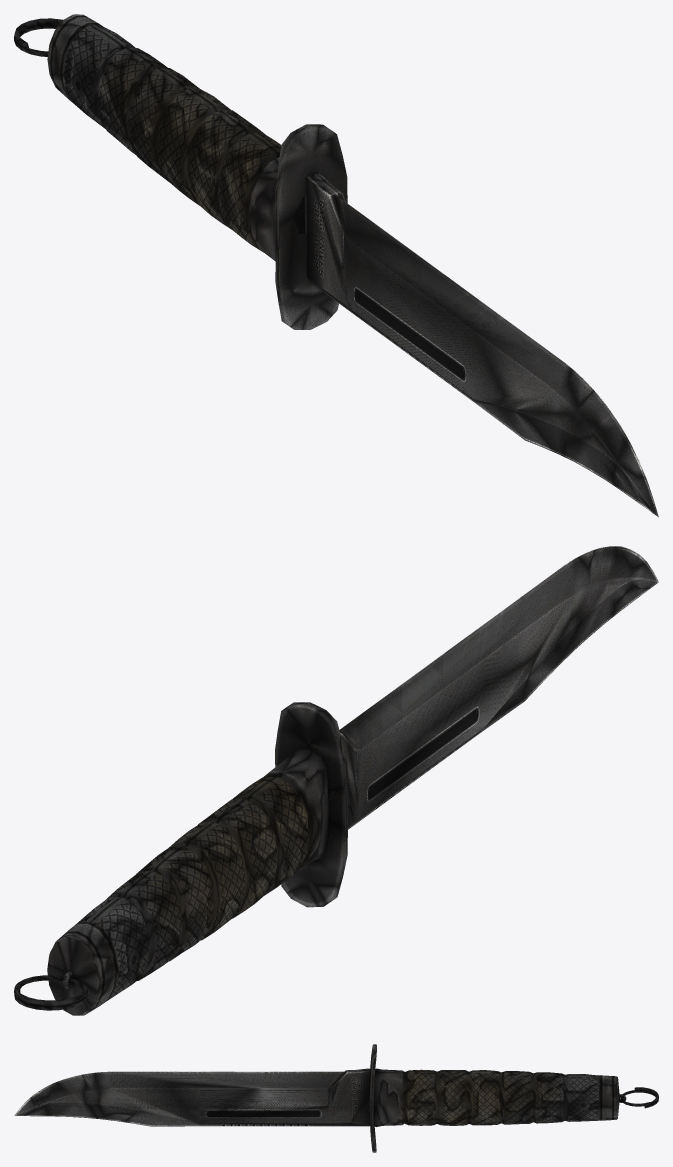
The model's file is model_align.obj.
3 views of the same model, one above another, from view 1: azimuth 30°, elevation 25°; view 2: azimuth 150°, elevation 25°; view 3: azimuth 270°, elevation 25° (orthographic). The views are drawn at different scales.
Bounding box in the file's own units: 0.0146 × 0.0413 × 0.2313.
1 material, 1 textured.
